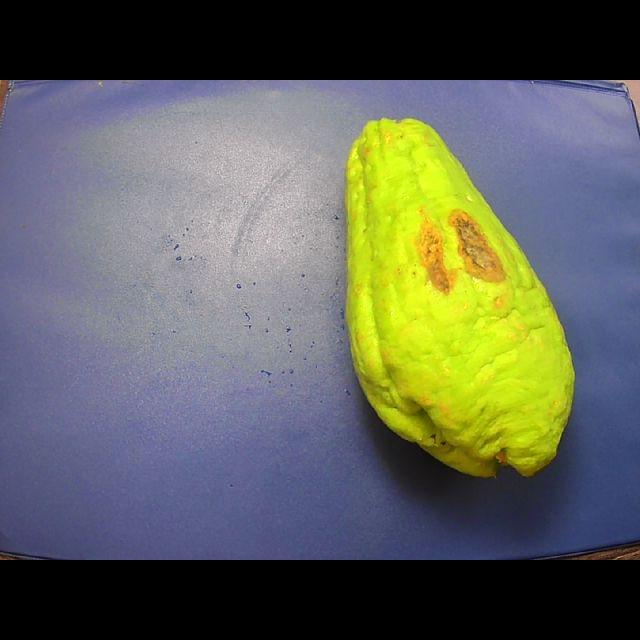chayote: (345, 118, 574, 476)
